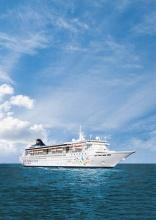youlun: (18, 129, 137, 169)
